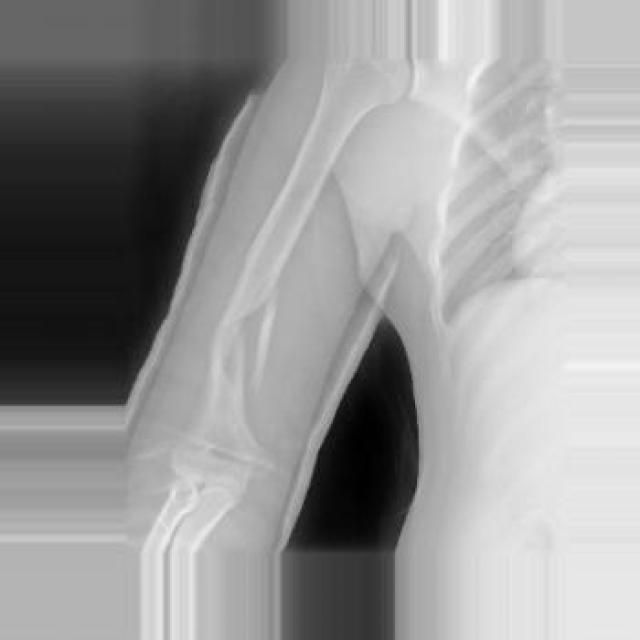Fracture: (194, 287, 286, 389)
